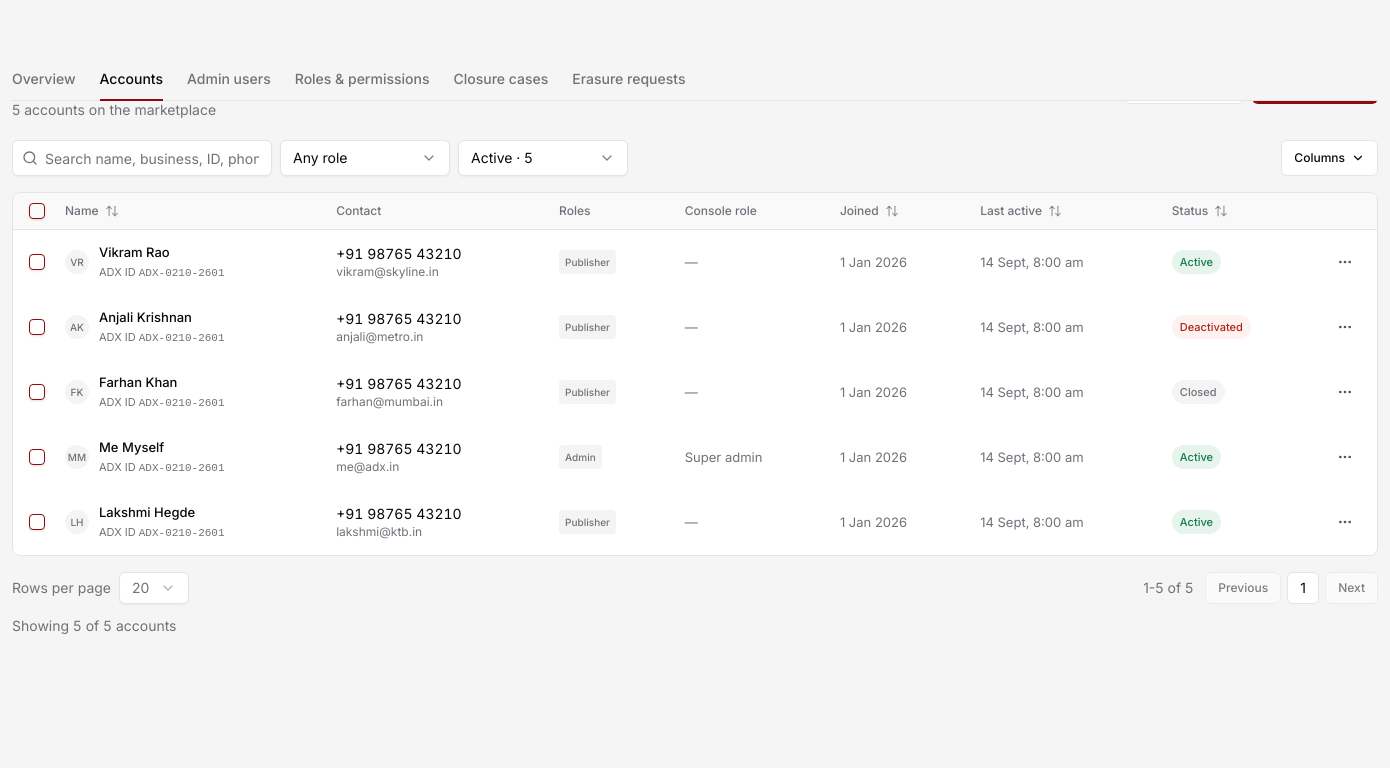
Test: the bulk bar › hides the actions the viewer may not take
This screenshot has width=1390, height=768.
Click the checkbox named "Select row" next to "VR" at (37, 262), box [29,254,45,270]
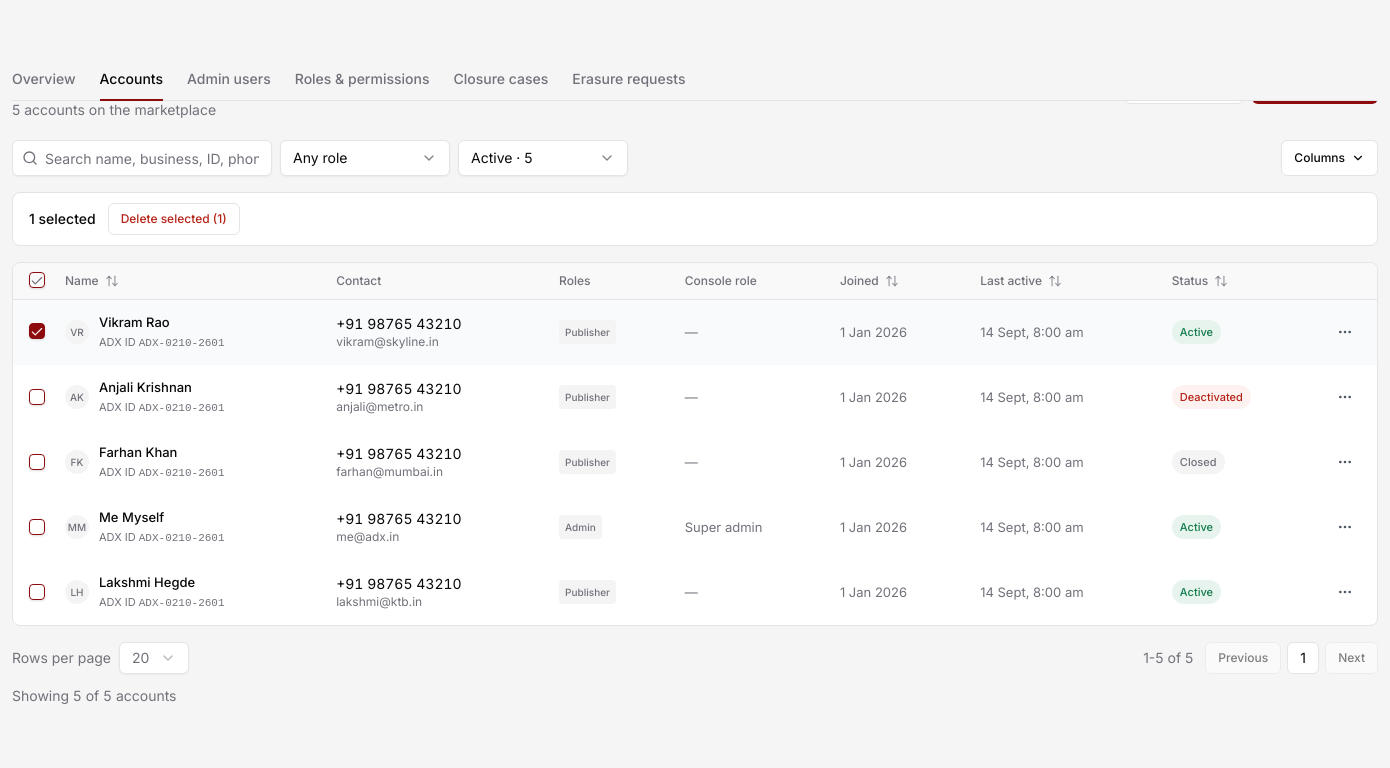
Expected: the button with test id "users-delete-selected" is shown, [108,203,240,235]
